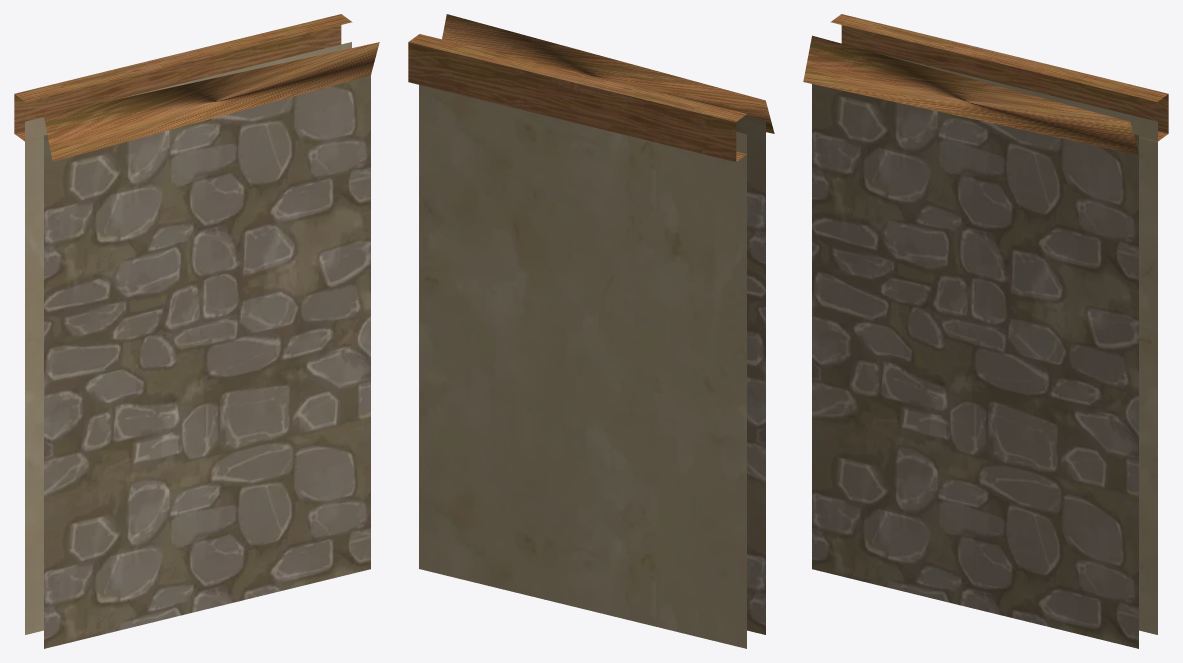
File: Wall_UnevenBrick_Straight.low.gltf
3 views of the same model, side by side, from view 1: azimuth 30°, elevation 25°; view 2: azimuth 150°, elevation 25°; view 3: azimuth 330°, elevation 25° (orthographic).
Visible parts, largest first — view 1: Wall_UnevenBrick_Straight; view 2: Wall_UnevenBrick_Straight; view 3: Wall_UnevenBrick_Straight.
Part boxes in pixels (<box>): Wall_UnevenBrick_Straight: <box>14,14,379,648</box>; Wall_UnevenBrick_Straight: <box>408,14,774,648</box>; Wall_UnevenBrick_Straight: <box>803,14,1168,648</box>.
Size of the model in its own units: 2 by 3.12 by 0.4063.
Materials: 3 (3 with a texture image).
